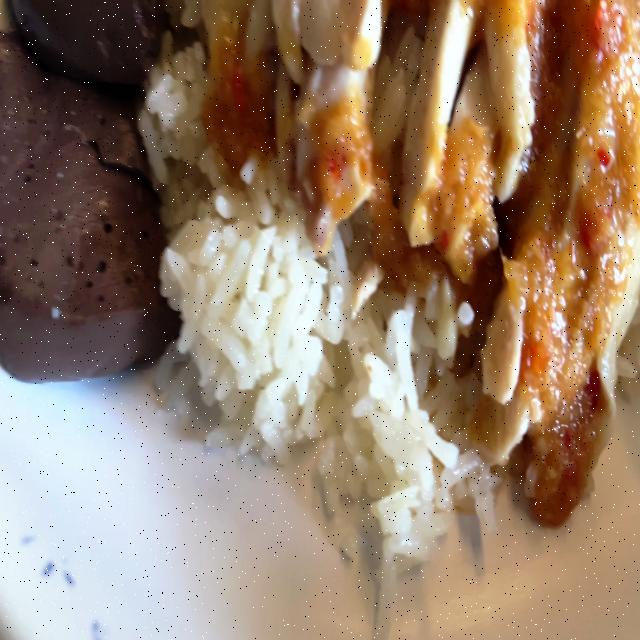boiled_chicken: (236, 0, 640, 452)
boiled_chicken_blood_jelly: (0, 0, 166, 381)
chicken_rice: (0, 0, 640, 582)
